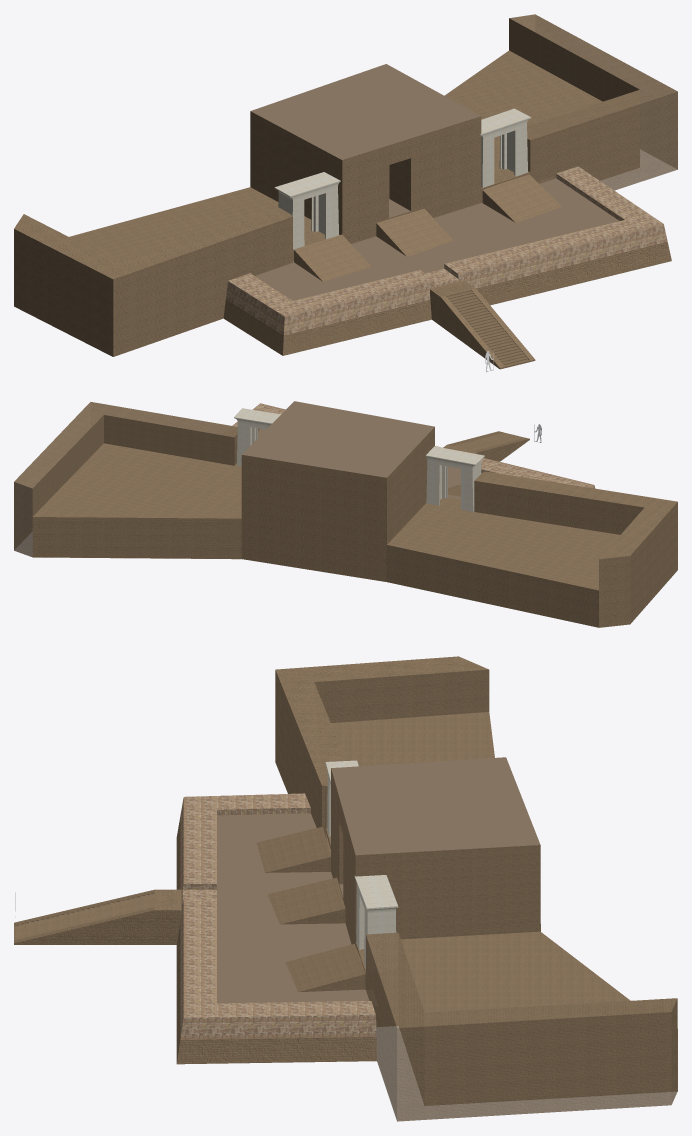
Rendered from SAN.obj.
3 views of the same model, one above another, from view 1: azimuth 30°, elevation 25°; view 2: azimuth 150°, elevation 25°; view 3: azimuth 270°, elevation 25° (orthographic). The views are drawn at different scales.
Visible parts, largest first — view 1: Mesh7 Model, Mesh3 Component_2_1 Model, Mesh2 Gate2_1_1 Model, Mesh1 Gate2_1 Model, Mesh5 Component_3_2 Model, Mesh6 Component_3_3 Model, Mesh4 Component_3_1 Model; view 2: Mesh7 Model, Mesh2 Gate2_1_1 Model, Mesh3 Component_2_1 Model, Mesh1 Gate2_1 Model; view 3: Mesh7 Model, Mesh3 Component_2_1 Model, Mesh5 Component_3_2 Model, Mesh6 Component_3_3 Model, Mesh4 Component_3_1 Model, Mesh1 Gate2_1 Model.
Part boxes in pixels (left/top/right/bottom): Mesh7 Model: left=14, top=14, right=677, bottom=356; Mesh3 Component_2_1 Model: left=430, top=280, right=535, bottom=369; Mesh2 Gate2_1_1 Model: left=274, top=172, right=340, bottom=249; Mesh1 Gate2_1 Model: left=480, top=108, right=531, bottom=187; Mesh5 Component_3_2 Model: left=482, top=174, right=561, bottom=222; Mesh6 Component_3_3 Model: left=376, top=208, right=453, bottom=256; Mesh4 Component_3_1 Model: left=294, top=234, right=371, bottom=281; Mesh7 Model: left=14, top=401, right=677, bottom=627; Mesh2 Gate2_1_1 Model: left=425, top=446, right=484, bottom=511; Mesh3 Component_2_1 Model: left=443, top=431, right=529, bottom=461; Mesh1 Gate2_1 Model: left=234, top=408, right=280, bottom=466; Mesh7 Model: left=176, top=656, right=677, bottom=1121; Mesh3 Component_2_1 Model: left=14, top=889, right=181, bottom=944; Mesh5 Component_3_2 Model: left=285, top=944, right=365, bottom=992; Mesh6 Component_3_3 Model: left=268, top=877, right=345, bottom=924; Mesh4 Component_3_1 Model: left=257, top=826, right=330, bottom=872; Mesh1 Gate2_1 Model: left=354, top=875, right=398, bottom=967.
Bounding box in the file's own units: 50.79 × 9 × 38.28.
Materials: 8 (7 with a texture image).
